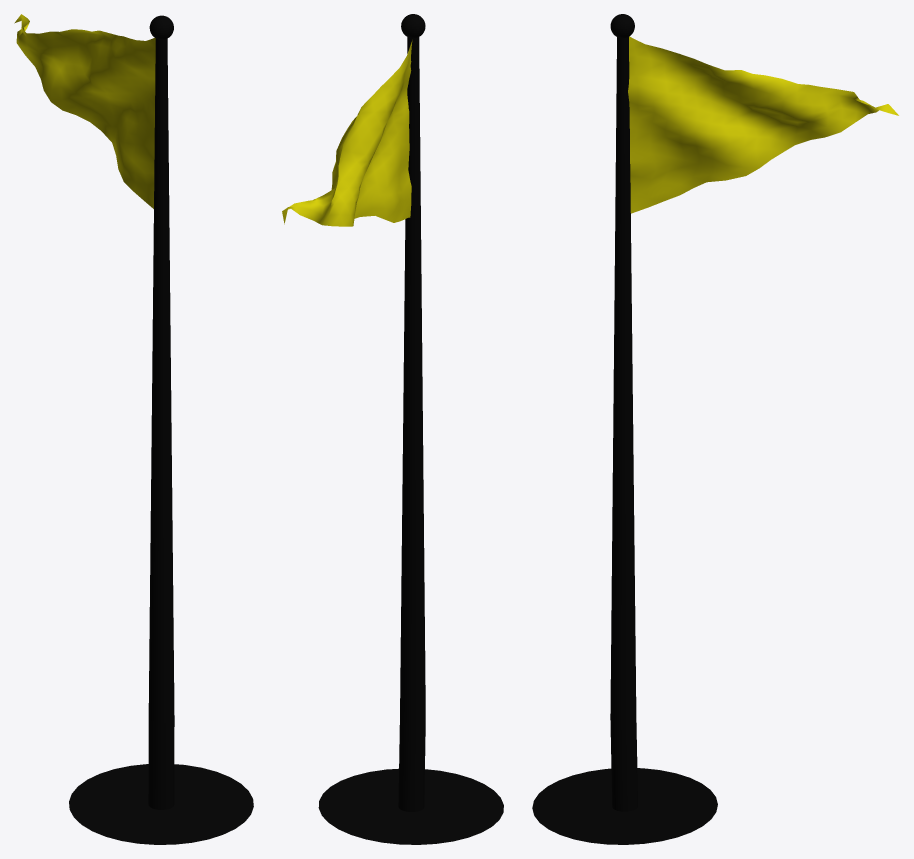
File: Flag.fbx
3 renders of one model, left to right at view 1: azimuth 30°, elevation 25°; view 2: azimuth 150°, elevation 25°; view 3: azimuth 270°, elevation 25°, orthographic.
Parts seen in each view (by area): view 1: Cylinder, Plane, Sphere; view 2: Cylinder, Plane, Sphere; view 3: Cylinder, Plane.
Part boxes in pixels (x1,y1,x2,y2): Cylinder: (69,38,253,844); Plane: (14,14,155,208); Sphere: (149,15,173,39); Cylinder: (318,37,503,844); Plane: (282,40,412,226); Sphere: (401,14,425,38); Cylinder: (532,37,717,844); Plane: (628,36,898,213).
Bounding box in the file's own units: 94.89 × 447 × 188.
